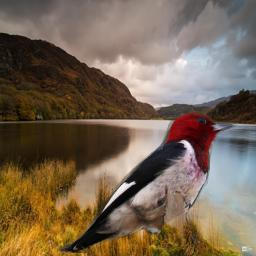Woodpecker: (54, 110, 241, 253)
